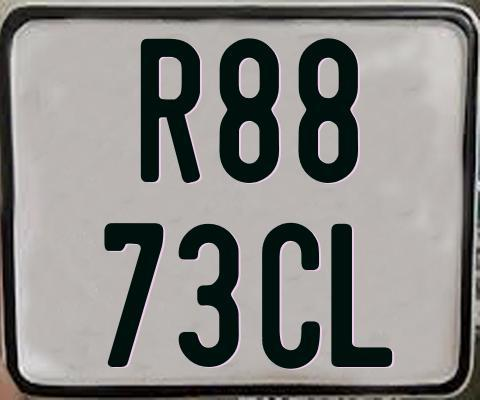3: (177, 223, 243, 366)
7: (101, 222, 164, 369)
8: (219, 35, 285, 180), (297, 37, 359, 184)
C: (262, 222, 326, 374)
L: (329, 221, 392, 366)
R: (138, 37, 201, 181)
